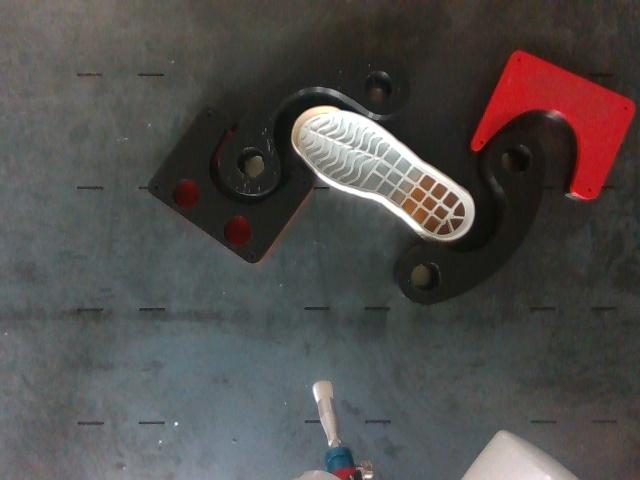shoes: (292, 107, 473, 239)
